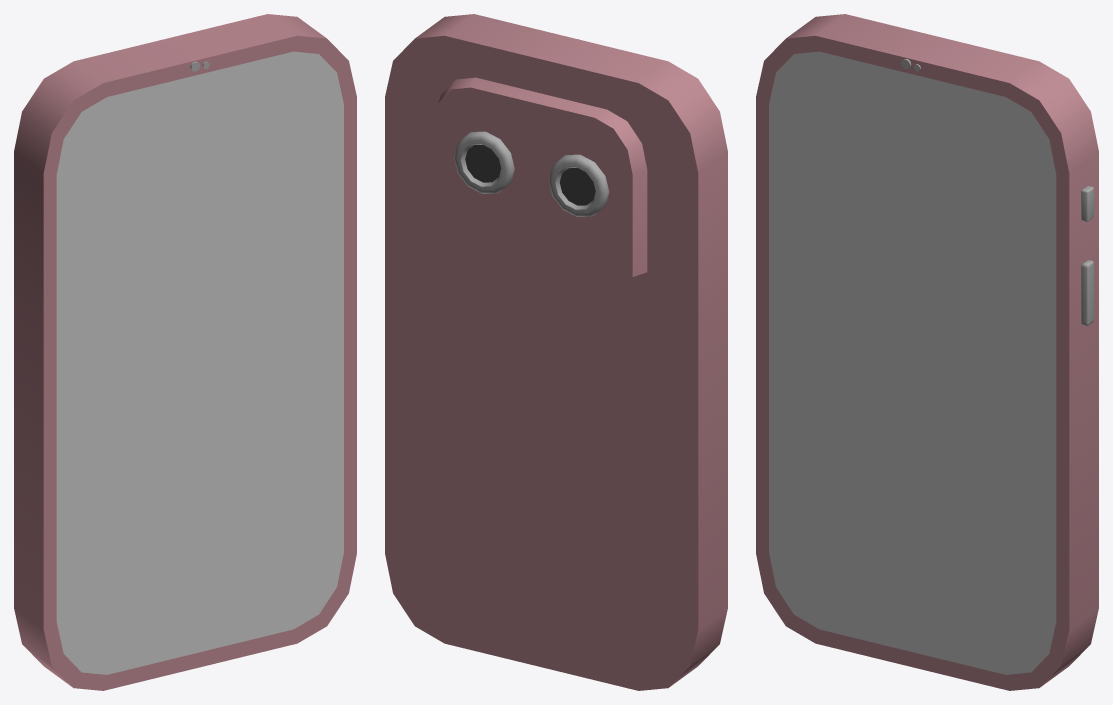
The model's file is Mobile_2.fbx.
3 views of the same model, side by side, from view 1: azimuth 30°, elevation 25°; view 2: azimuth 150°, elevation 25°; view 3: azimuth 330°, elevation 25° (orthographic).
Parts seen in each view (by area): view 1: Mobile_2; view 2: Mobile_2; view 3: Mobile_2.
Part boxes in pixels (left/top/right/bottom): Mobile_2: left=14, top=14, right=356, bottom=690; Mobile_2: left=385, top=14, right=727, bottom=690; Mobile_2: left=756, top=14, right=1098, bottom=690.
Size of the model in its own units: 0.0846 by 0.1534 by 0.0206.
